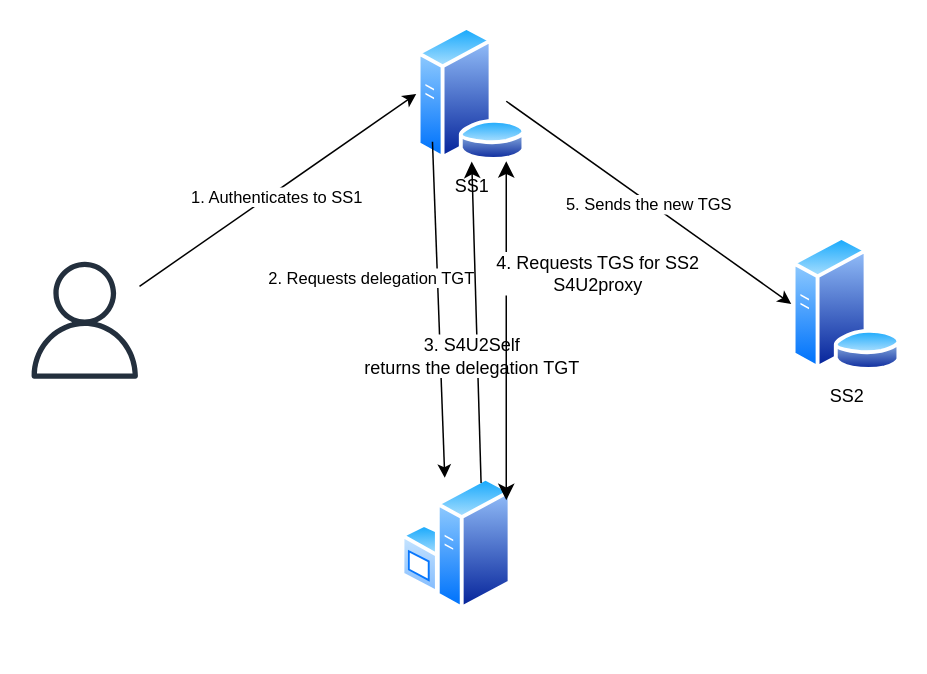
The diagram is 927 pixels wide and 674 high, and some of its shapes have lost their labels. The shapes that lost their labels are listed below. From the top down, each one's box as (x1, y1, x2, y2) in pixels, then its label:
(26, 261, 142, 378): User
(400, 476, 512, 611): DC
